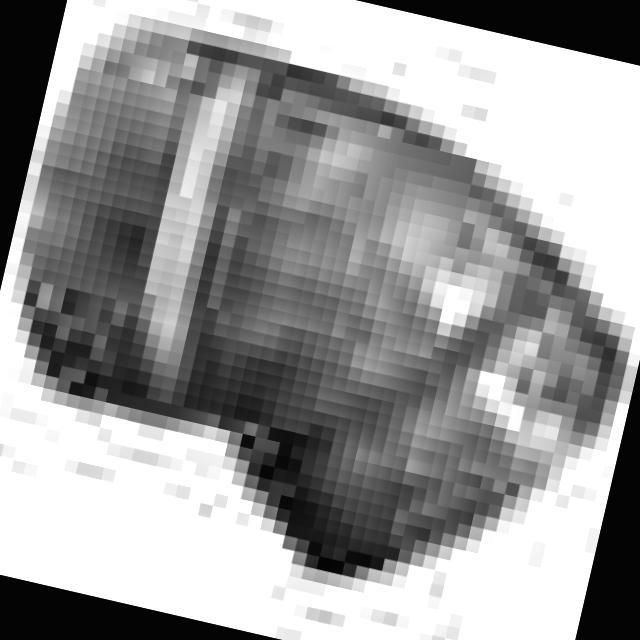ELBOW45: (12, 0, 624, 580)
